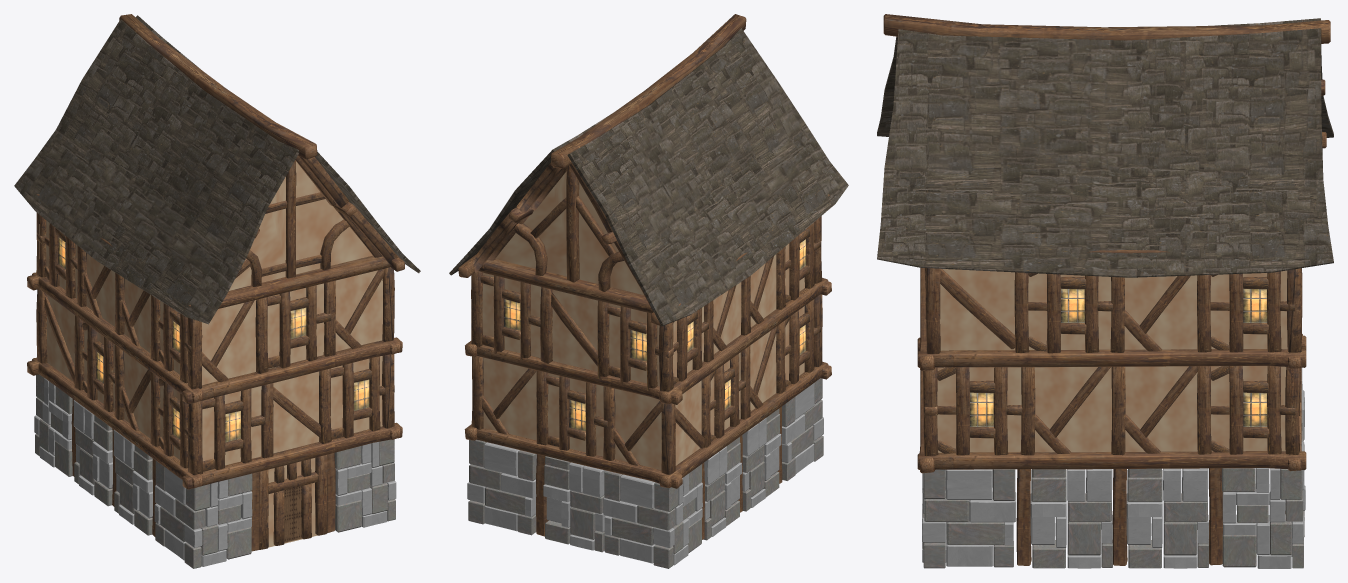
Rendered from House 1.fbx.
3 renders of one model, left to right at view 1: azimuth 30°, elevation 25°; view 2: azimuth 150°, elevation 25°; view 3: azimuth 270°, elevation 25°, orthographic. The views are drawn at different scales.
Visible parts, largest first — view 1: House 1; view 2: House 1; view 3: House 1.
Boxes of the visible parts, left/top/right/bottom form: House 1: left=14, top=14, right=420, bottom=568; House 1: left=449, top=14, right=848, bottom=568; House 1: left=877, top=14, right=1333, bottom=568.
Size of the model in its own units: 6.86 by 11.87 by 9.96.
